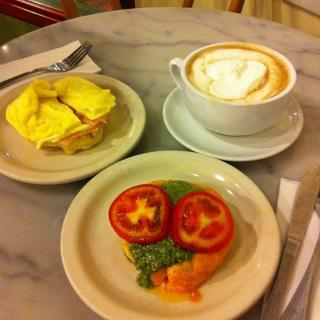tomato: (108, 192, 176, 250), (171, 193, 235, 250)
